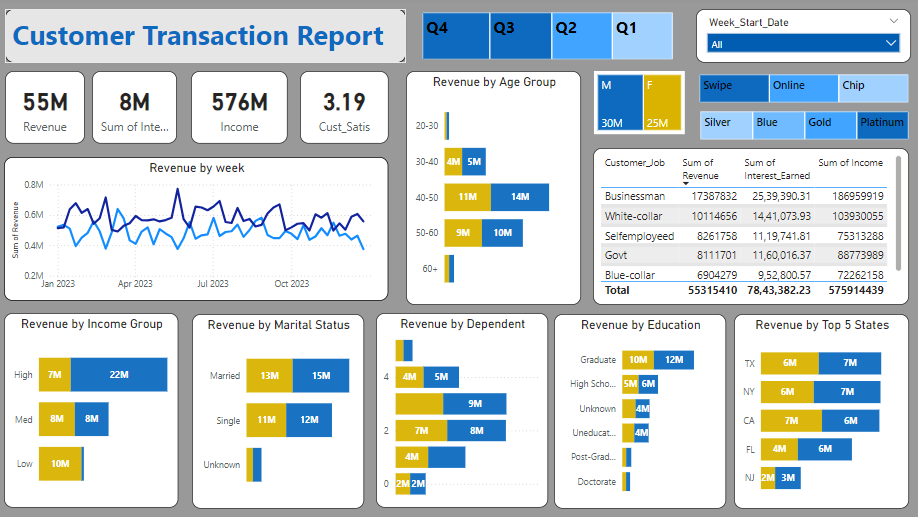

The dashboard page shown, as its layout file describes it:
{"tool":"powerbi","page":{"name":"CC_Customer","canvas":[1280,720],"ordinal":2},"visuals":[{"type":"textbox","box":[9.3,10.8,530.2,74.2],"z":0},{"type":"barChart","title":"Revenue by Income Group","fields":{"Y":["Sum(credit_card.Revenue)"],"Category":["customer.IncomeGroup"],"Series":["customer.Gender"]},"box":[9.9,435.1,239.5,267.9],"z":1000},{"type":"tableEx","fields":{"Values":["customer.Customer_Job","Sum(credit_card.Revenue)","Sum(credit_card.Interest_Earned)","Sum(customer.Income)"]},"box":[850.4,225.4,405.4,198.4],"z":2000},{"type":"card","fields":{"Values":["Sum(credit_card.Revenue)"]},"box":[10.8,102,109.8,100.5],"z":3000},{"type":"card","fields":{"Values":["Sum(credit_card.Interest_Earned)"]},"box":[131.4,102,117.5,100.5],"z":4000},{"type":"card","fields":{"Values":["Sum(customer.Income)"]},"box":[267.4,102,132.9,100.5],"z":5000},{"type":"card","fields":{"Values":["Avg(customer.Cust_Satisfaction_Score)"]},"box":[417.4,102,122.1,100.5],"z":6000},{"type":"slicer","fields":{"Values":["credit_card.Week_Start_Date"]},"box":[960,30.9,296.8,85],"z":7000},{"type":"treemap","fields":{"Group":["credit_card.Qtr"],"Values":["Avg(credit_card.Client_Num)"]},"box":[562.7,17,354,85],"z":8000},{"type":"treemap","fields":{"Values":["Avg(credit_card.Client_Num)"],"Group":["credit_card.Card_Category"]},"box":[960,177.8,296.8,47.9],"z":9000},{"type":"lineChart","title":"Revenue by week","fields":{"Y":["Sum(credit_card.Revenue)"],"Series":["customer.Gender"],"Category":["credit_card.Week_Start_Date.Variation.Date Hierarchy.Year","credit_card.Week_Start_Date.Variation.Date Hierarchy.Quarter","credit_card.Week_Start_Date.Variation.Date Hierarchy.Month","credit_card.Week_Start_Date.Variation.Date Hierarchy.Day"]},"box":[9.9,219.7,528.7,198.4],"z":10000},{"type":"treemap","fields":{"Group":["customer.Gender"],"Values":["Sum(credit_card.Revenue)"]},"box":[820.6,116.2,124.7,86.5],"z":11000},{"type":"barChart","title":"Revenue by Age Group","fields":{"Y":["Sum(credit_card.Revenue)"],"Category":["customer.AgeGroup"],"Series":["customer.Gender"]},"box":[562.7,155.9,240.9,267.9],"z":12000},{"type":"barChart","title":"Revenue by Dependent ","fields":{"Y":["Sum(credit_card.Revenue)"],"Category":["customer.Dependent_Count"],"Series":["customer.Gender"]},"box":[521.6,435.1,236.7,267.9],"z":13000},{"type":"barChart","title":"Revenue by Education","fields":{"Y":["Sum(credit_card.Revenue)"],"Category":["customer.Education_Level"],"Series":["customer.Gender"]},"box":[766.8,436.5,236.7,267.9],"z":14000},{"type":"barChart","title":"Revenue by Top 5 States","fields":{"Y":["Sum(credit_card.Revenue)"],"Category":["customer.state_cd"],"Series":["customer.Gender"]},"box":[1014.8,436.5,240.9,267.9],"z":15000},{"type":"barChart","title":"Revenue by Marital Status","fields":{"Y":["Sum(credit_card.Revenue)"],"Category":["customer.Marital_Status"],"Series":["customer.Gender"]},"box":[267.9,436.5,236.7,267.9],"z":16000},{"type":"treemap","fields":{"Values":["Avg(credit_card.Client_Num)"],"Group":["credit_card.Use Chip"]},"box":[959.5,127.6,297.6,48.2],"z":17000},{"type":"qnaVisual","box":[803.6,102,150,150],"z":18000}]}

Visuals, with their boxes in screenshot pixels (x1, y1, x2, y2), scaled from the page's 1280x720 canvas onto the 918x517 screenshot:
textbox: crop(7, 8, 387, 61)
"Revenue by Income Group" barChart: crop(7, 312, 179, 505)
tableEx - customer.Customer_Job x Sum(credit_card.Revenue): crop(610, 162, 901, 304)
card - Sum(credit_card.Revenue): crop(8, 73, 86, 145)
card - Sum(credit_card.Interest_Earned): crop(94, 73, 179, 145)
card - Sum(customer.Income): crop(192, 73, 287, 145)
card - Avg(customer.Cust_Satisfaction_Score): crop(299, 73, 387, 145)
slicer - credit_card.Week_Start_Date: crop(688, 22, 901, 83)
treemap - credit_card.Qtr x Avg(credit_card.Client_Num): crop(404, 12, 657, 73)
treemap - Avg(credit_card.Client_Num) x credit_card.Card_Category: crop(688, 128, 901, 162)
"Revenue by week" lineChart: crop(7, 158, 386, 300)
treemap - customer.Gender x Sum(credit_card.Revenue): crop(589, 83, 678, 146)
"Revenue by Age Group" barChart: crop(404, 112, 576, 304)
"Revenue by Dependent " barChart: crop(374, 312, 544, 505)
"Revenue by Education" barChart: crop(550, 313, 720, 506)
"Revenue by Top 5 States" barChart: crop(728, 313, 901, 506)
"Revenue by Marital Status" barChart: crop(192, 313, 362, 506)
treemap - Avg(credit_card.Client_Num) x credit_card.Use Chip: crop(688, 92, 902, 126)
qnaVisual: crop(576, 73, 684, 181)
